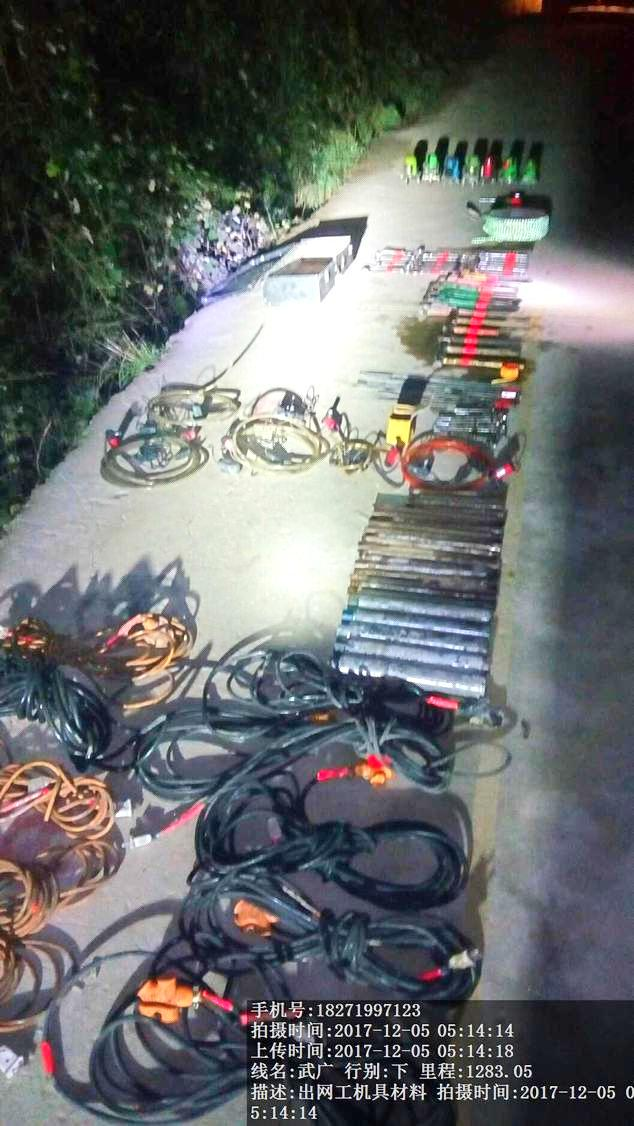DX: (184, 783, 483, 915), (212, 648, 515, 732)
